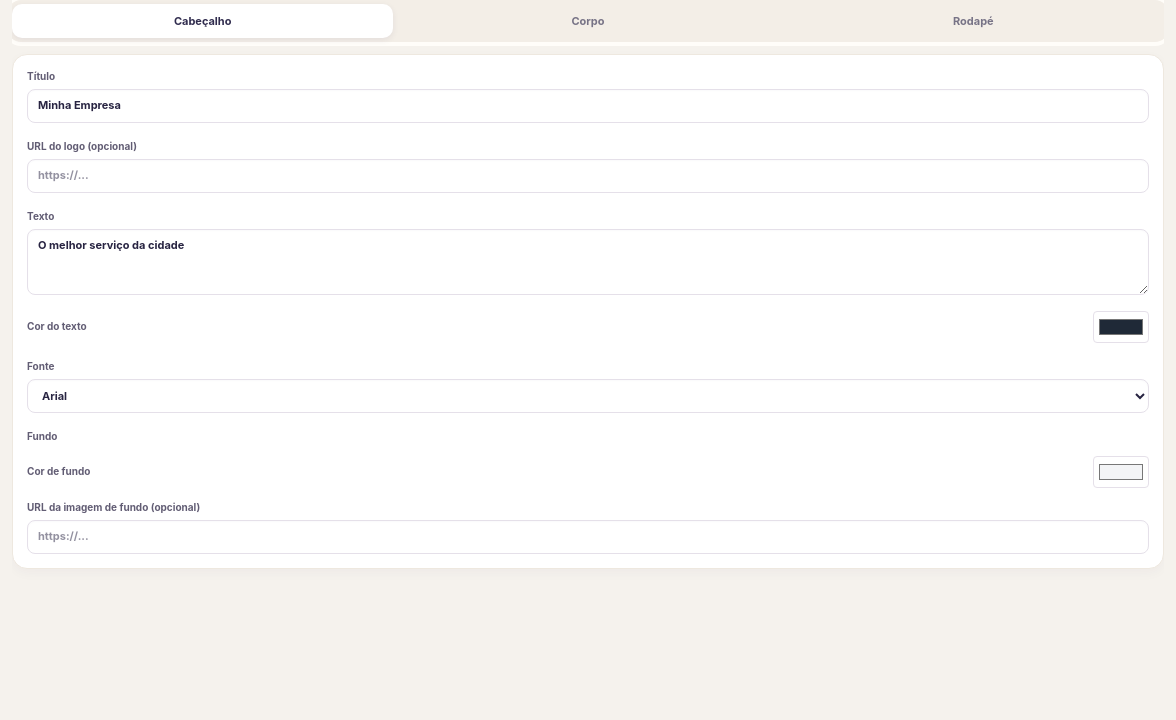
Test: LandingPageForm › shows one section at a time, starting with the header
This screenshot has width=1176, height=720.
Click the tab "Rodapé" at (973, 21), box [783,4,1164,38]
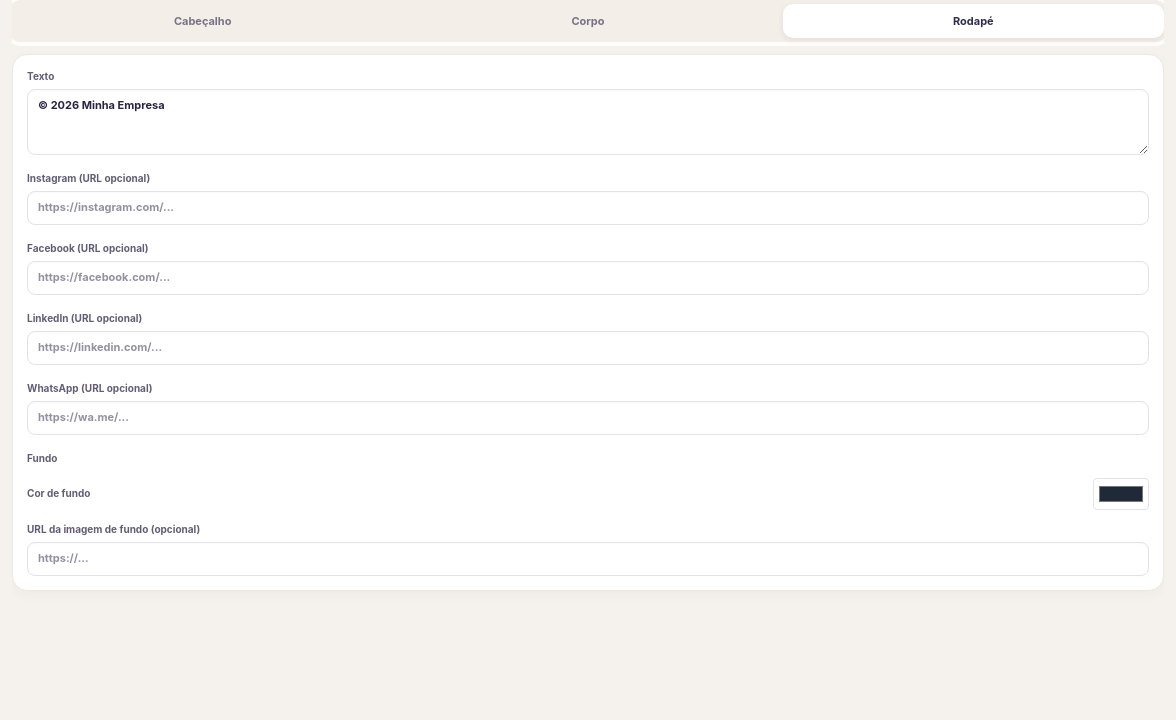
Now the number of panels is 1
Now the panel named "Rodapé" is shown
